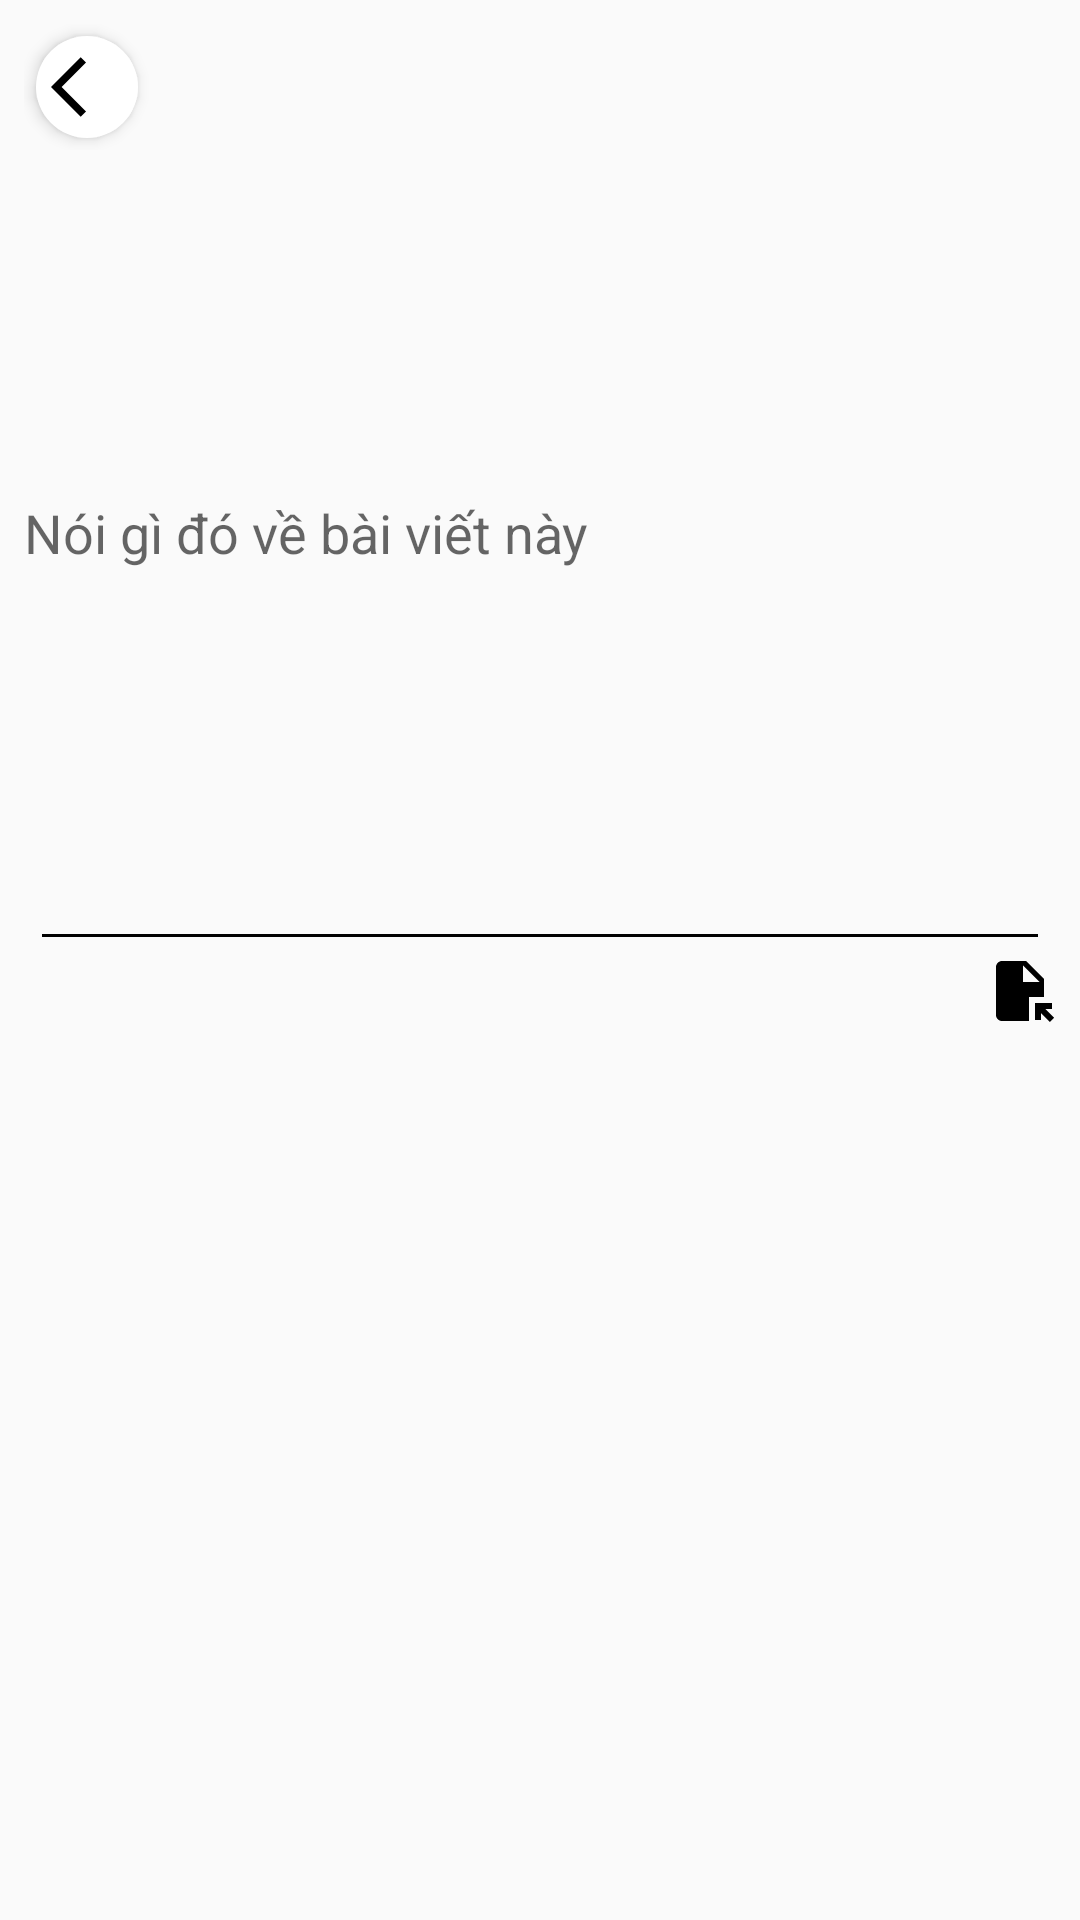

Where icons sit on this 1080 x 1920 app screen, as (x1, y1, x2, y2):
back: (36, 36, 115, 138)
file open: (996, 961, 1054, 1022)
